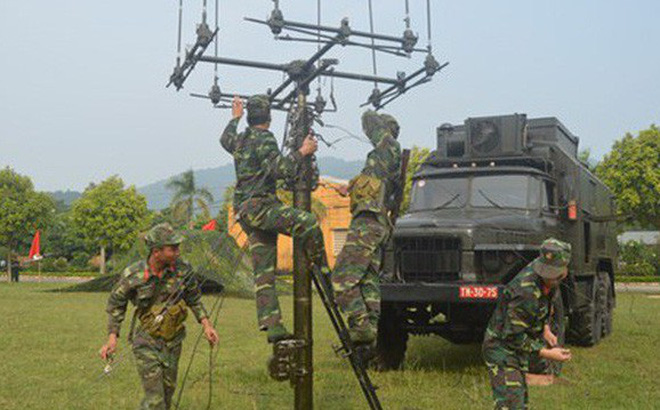plate: (455, 285, 499, 300)
